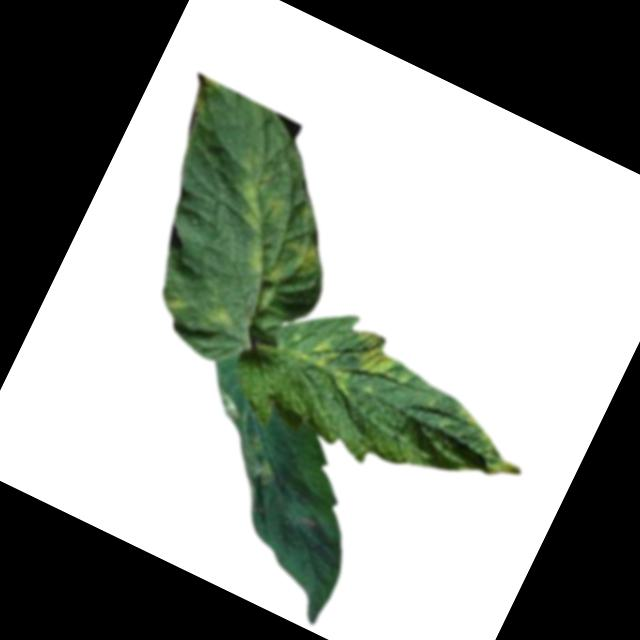Leaf_Mold: (189, 386, 297, 490), (216, 154, 296, 237), (344, 326, 409, 385), (281, 234, 330, 280), (299, 328, 343, 373), (480, 448, 526, 487), (197, 296, 237, 330), (327, 365, 361, 398), (162, 289, 188, 314)
